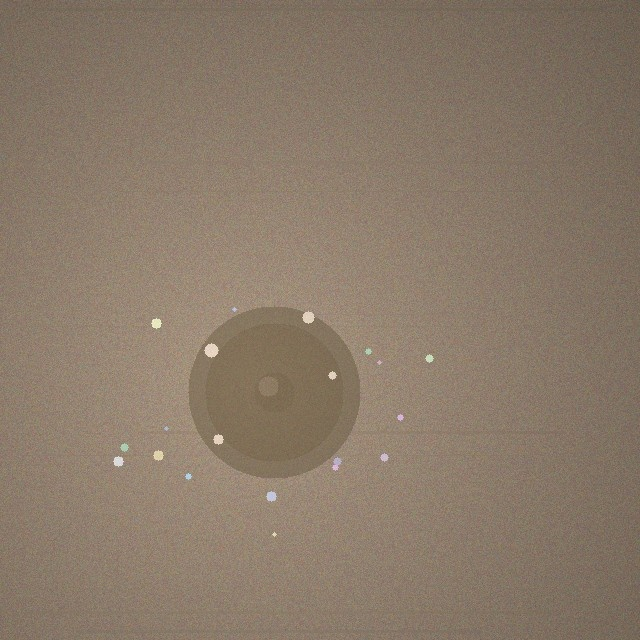overburn: (188, 306, 360, 478)
